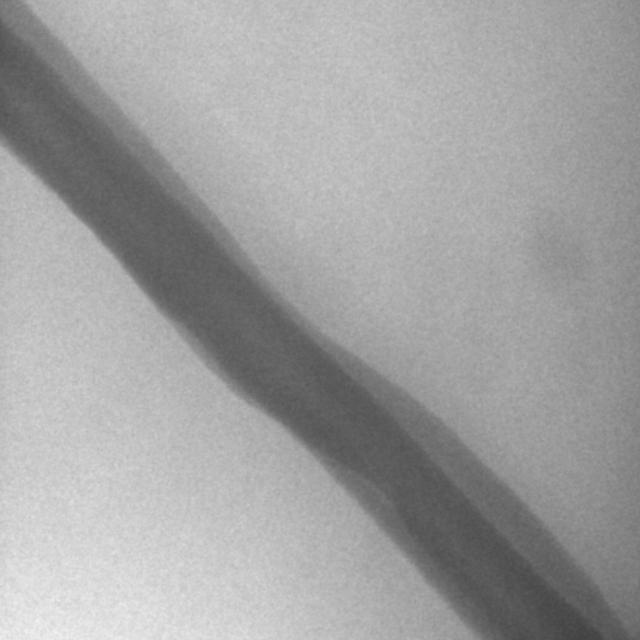unfused: (316, 323, 640, 640)
